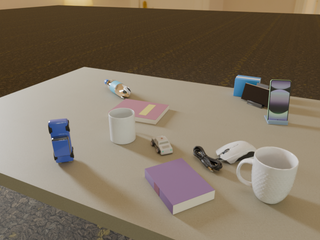book: (145, 158, 215, 215), (108, 99, 169, 124)
bottle: (104, 79, 131, 99)
box: (233, 75, 261, 97)
cup: (237, 147, 299, 204), (108, 108, 136, 144)
mouse: (216, 141, 257, 163)
phone: (267, 80, 291, 121), (241, 83, 270, 108)
toy_car: (48, 118, 74, 163), (151, 136, 173, 155)
